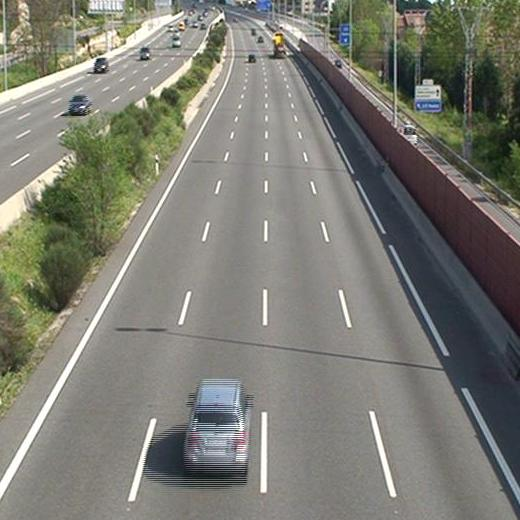car: (183, 381, 253, 471), (247, 52, 255, 63)
truck: (271, 32, 287, 58)
